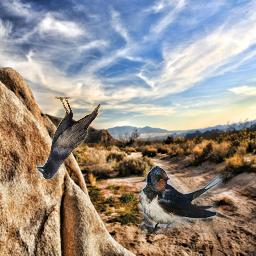Crow: (36, 97, 100, 180)
Swallow: (140, 167, 231, 236)
